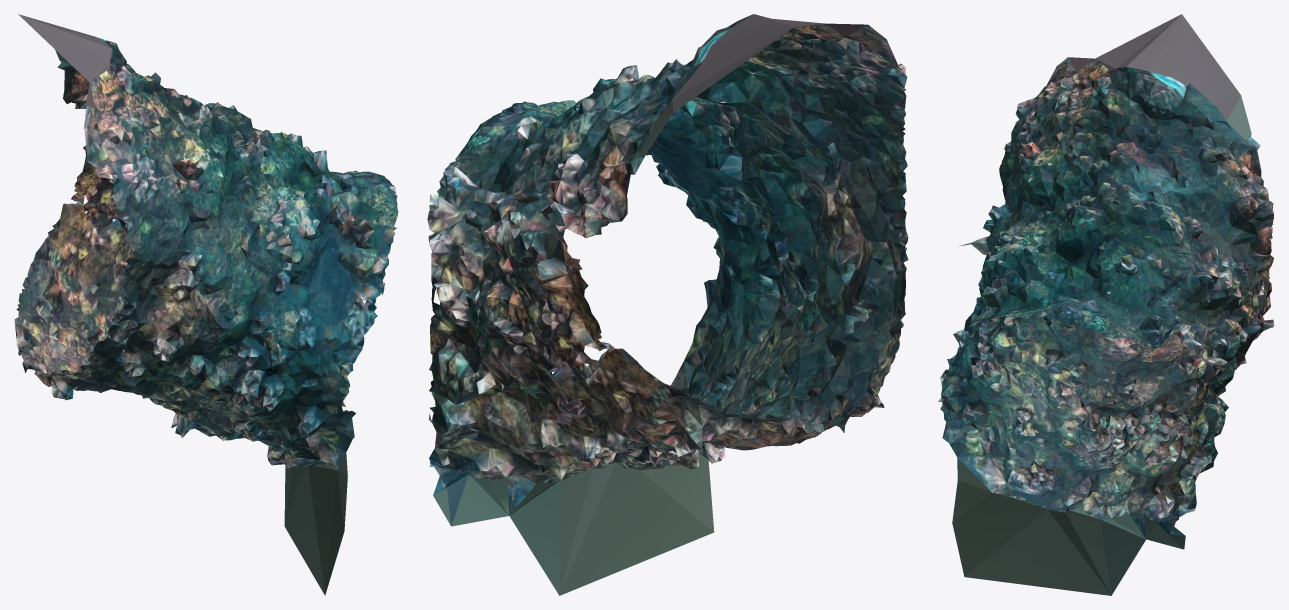
Rendered from coral-pillar.glb.
The picture shows the model from 3 angles, left to right: view 1: azimuth 30°, elevation 25°; view 2: azimuth 150°, elevation 25°; view 3: azimuth 270°, elevation 25°; orthographic projection. The views are drawn at different scales.
Visible parts, largest first — view 1: model; view 2: model; view 3: model.
Part boxes in pixels (bbox=[...]): model: bbox=[14, 14, 398, 595]; model: bbox=[427, 14, 908, 595]; model: bbox=[938, 14, 1274, 595].
Size of the model in its own units: 2.06 by 3.2 by 2.03.
1 material, 1 textured.
